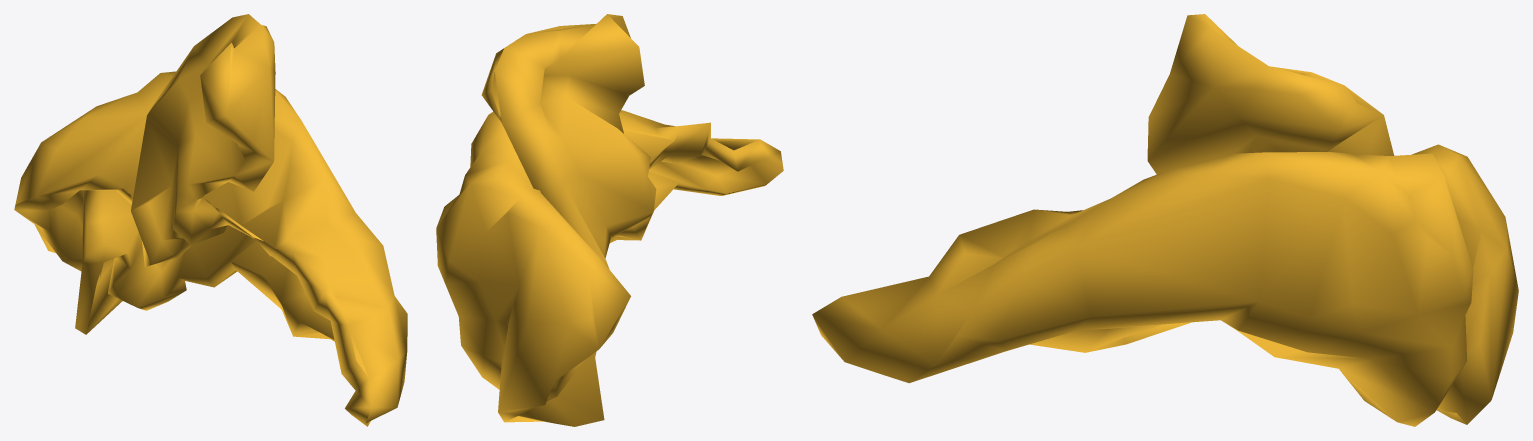
The model's file is nervoso-cuneus-r.glb.
The picture shows the model from 3 angles, left to right: view 1: azimuth 30°, elevation 25°; view 2: azimuth 150°, elevation 25°; view 3: azimuth 270°, elevation 25°; orthographic projection. The views are drawn at different scales.
Visible parts, largest first — view 1: Cuneus.r; view 2: Cuneus.r; view 3: Cuneus.r.
Part boxes in pixels (left/top/right/bottom): Cuneus.r: left=14, top=14, right=407, bottom=426; Cuneus.r: left=436, top=14, right=783, bottom=426; Cuneus.r: left=812, top=14, right=1518, bottom=426.
Size of the model in its own units: 0.0195 by 0.0321 by 0.0494.
